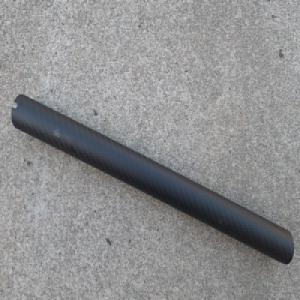LuggagePart: (9, 92, 294, 265)
